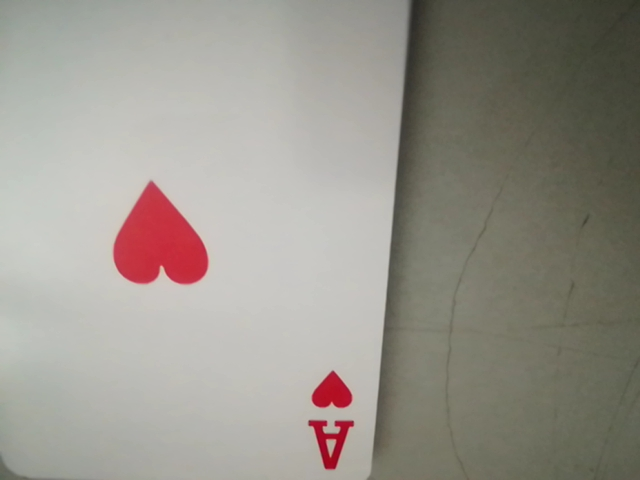hx a: (303, 368, 367, 470)
